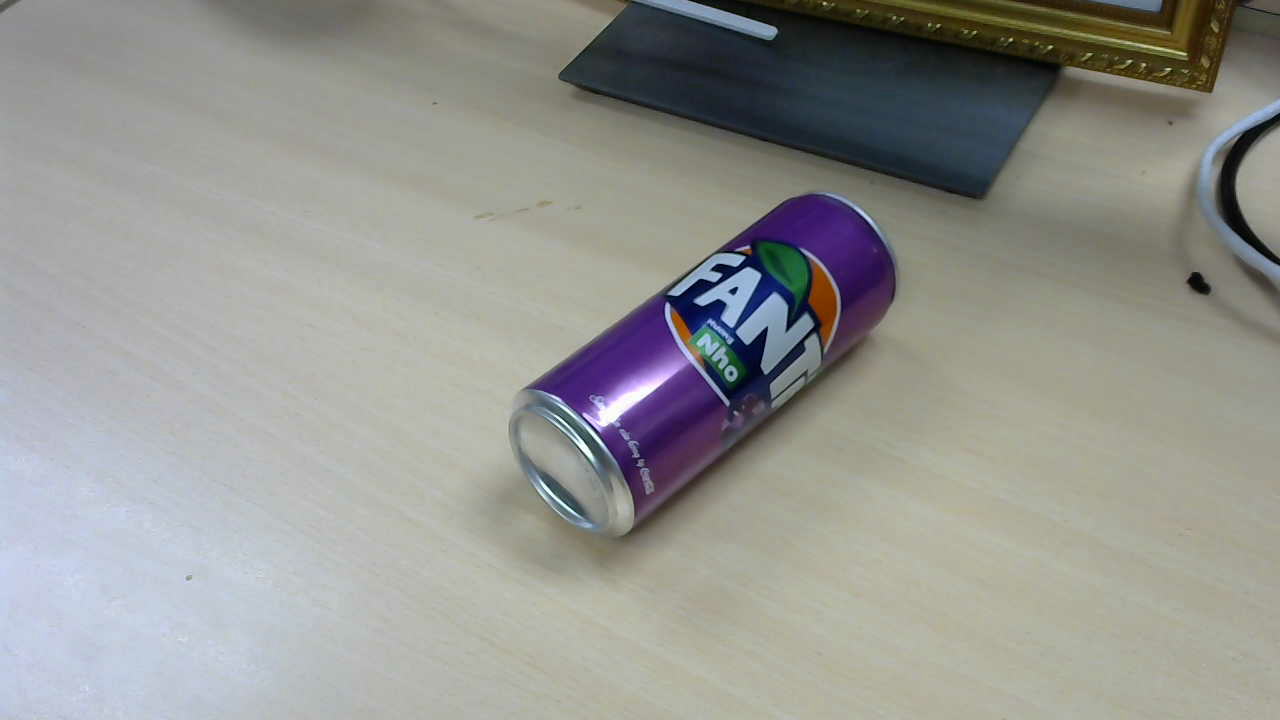Fanta: (508, 192, 902, 546)
